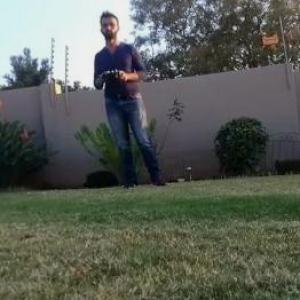follow: (91, 7, 175, 193)
